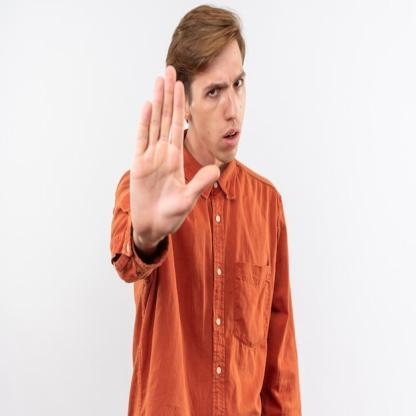stop: (126, 62, 221, 246)
